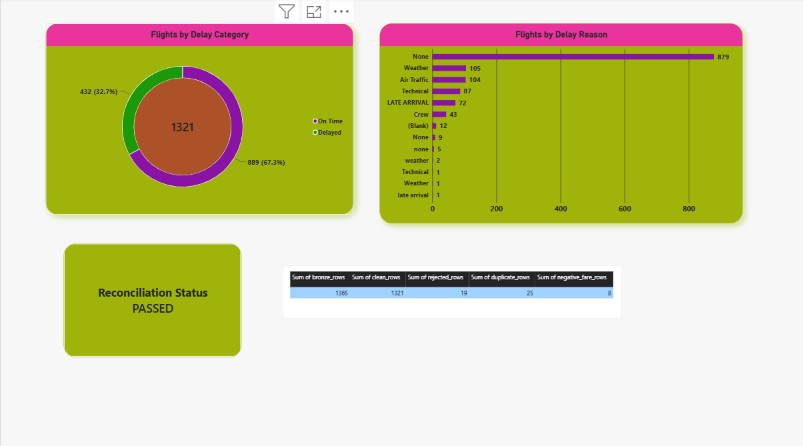

This screenshot's page, from the dashboard's own definition file:
{"tool":"powerbi","page":{"name":"Delay & Data Quality","canvas":[1920,1080],"ordinal":2},"visuals":[{"type":"donutChart","title":"Flights by Delay Category","fields":{"Category":["`airline_flights` `default` `gold_delay_summary`.delay_category"],"Y":["Sum(`airline_flights` `default` `gold_delay_summary`.flights)"]},"box":[107.4,62,734.9,455.7],"z":0},{"type":"clusteredBarChart","title":"Flights by Delay Reason","fields":{"Category":["`airline_flights` `default` `gold_delay_summary`.delay_reason"],"Y":["Sum(`airline_flights` `default` `gold_delay_summary`.flights)"]},"box":[904.3,62,866.1,477.2],"z":1000},{"type":"tableEx","fields":{"Values":["Sum(`airline_flights` `default` `gold_data_quality`.bronze_rows)","Sum(`airline_flights` `default` `gold_data_quality`.clean_rows)","Sum(`airline_flights` `default` `gold_data_quality`.rejected_rows)","Sum(`airline_flights` `default` `gold_data_quality`.duplicate_rows)","Sum(`airline_flights` `default` `gold_data_quality`.negative_fare_rows)"]},"box":[672.8,639.4,808.8,126.5],"z":2000},{"type":"cardVisual","fields":{"Data":["`airline_flights` `default` `gold_data_quality`.Reconciliation Status"]},"box":[150.3,586.9,424.7,272],"z":3000}]}

Visuals, with their boxes in screenshot pixels (x1, y1, x2, y2), scaled from the page's 1920x1080 canvas onto the 803x446 screenshot:
"Flights by Delay Category" donutChart: bbox=(45, 26, 352, 214)
"Flights by Delay Reason" clusteredBarChart: bbox=(378, 26, 740, 223)
tableEx - Sum(`airline_flights` `default` `gold_data_quality`.bronze_rows) x Sum(`airline_flights` `default` `gold_data_quality`.clean_rows): bbox=(281, 264, 620, 316)
cardVisual - `airline_flights` `default` `gold_data_quality`.Reconciliation Status: bbox=(63, 242, 240, 355)
